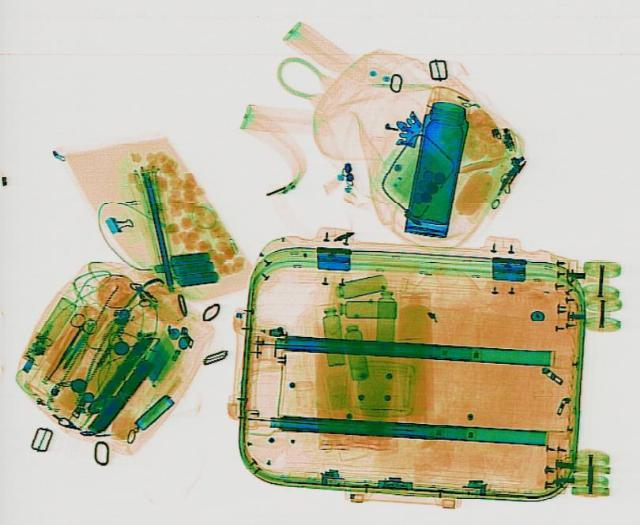Scissors: (36, 309, 100, 382)
